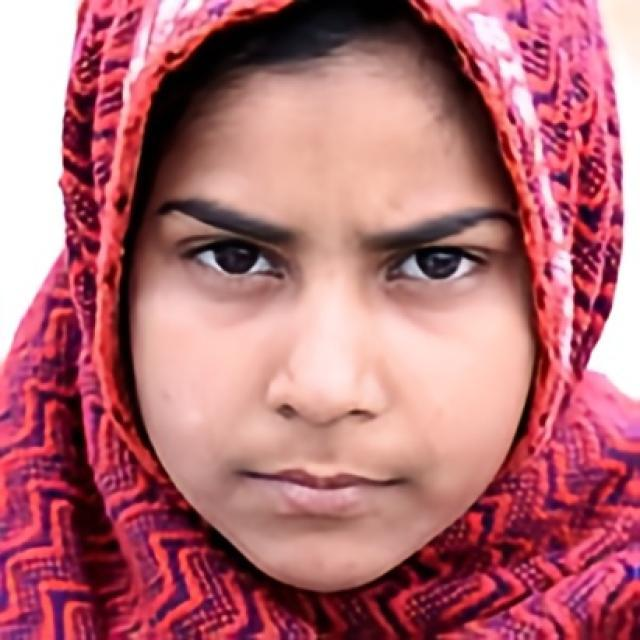anger: (128, 52, 532, 586)
